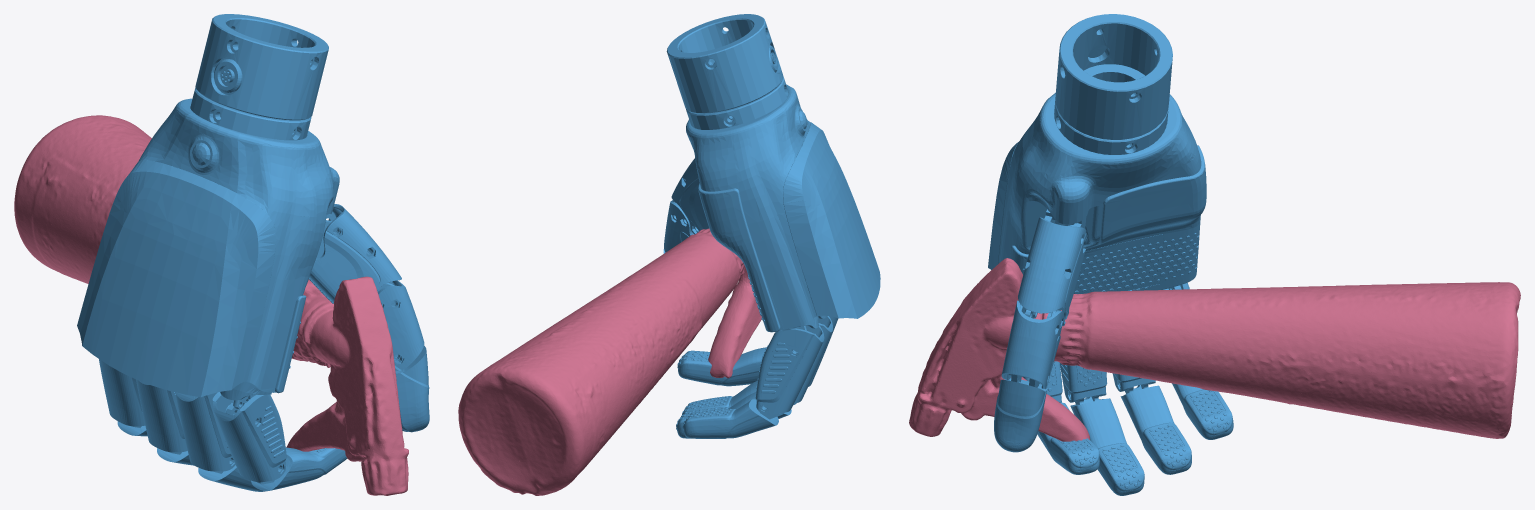
The picture shows the model from 3 angles, left to right: view 1: azimuth 30°, elevation 25°; view 2: azimuth 150°, elevation 25°; view 3: azimuth 270°, elevation 25°; orthographic projection. The views are drawn at different scales.
Parts seen in each view (by area): view 1: 4; view 2: 4; view 3: 4.
Boxes of the visible parts, x1=… form: 4: x1=14, y1=14, x2=429, y2=495; 4: x1=458, y1=14, x2=880, y2=495; 4: x1=909, y1=14, x2=1520, y2=495.
Bounding box in the file's own units: 0.1345 × 0.2169 × 0.2685.
